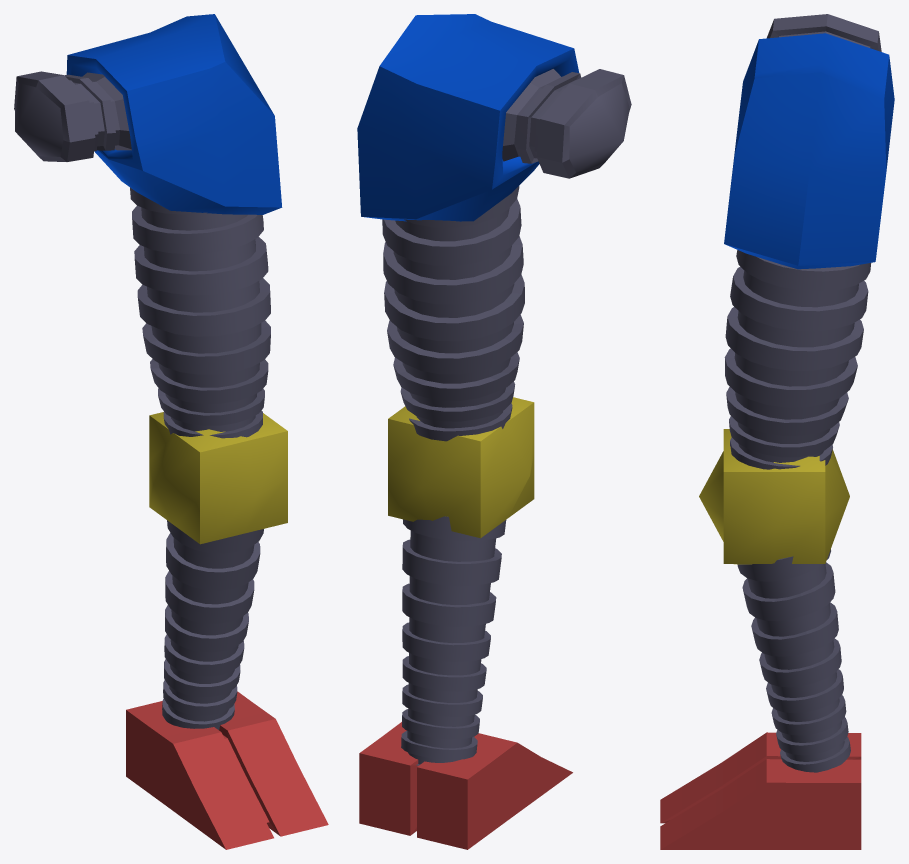
File: Robot_Leg_left_A.fbx
The picture shows the model from 3 angles, left to right: view 1: azimuth 30°, elevation 25°; view 2: azimuth 150°, elevation 25°; view 3: azimuth 270°, elevation 25°; orthographic projection. The views are drawn at different scales.
Visible parts, largest first — view 1: polySurface49, polySurface50, pCube8, pCylinder2, pCube2; view 2: polySurface49, polySurface50, pCylinder2, pCube8, pCube2; view 3: polySurface49, polySurface50, pCube8, pCylinder2, pCube2.
Part boxes in pixels (<box>): polySurface49: <box>14,14,282,214</box>; polySurface50: <box>130,187,270,438</box>; pCube8: <box>126,691,328,849</box>; pCylinder2: <box>162,520,263,729</box>; pCube2: <box>149,412,287,544</box>; polySurface49: <box>357,14,631,221</box>; polySurface50: <box>382,186,524,441</box>; pCylinder2: <box>401,516,506,765</box>; pCube8: <box>359,722,572,849</box>; pCube2: <box>388,397,534,538</box>; polySurface49: <box>724,14,894,269</box>; polySurface50: <box>724,250,871,469</box>; pCube8: <box>660,732,861,849</box>; pCylinder2: <box>737,549,850,772</box>; pCube2: <box>699,429,849,564</box>.
Size of the model in its own units: 1.59 by 4.72 by 1.32.
